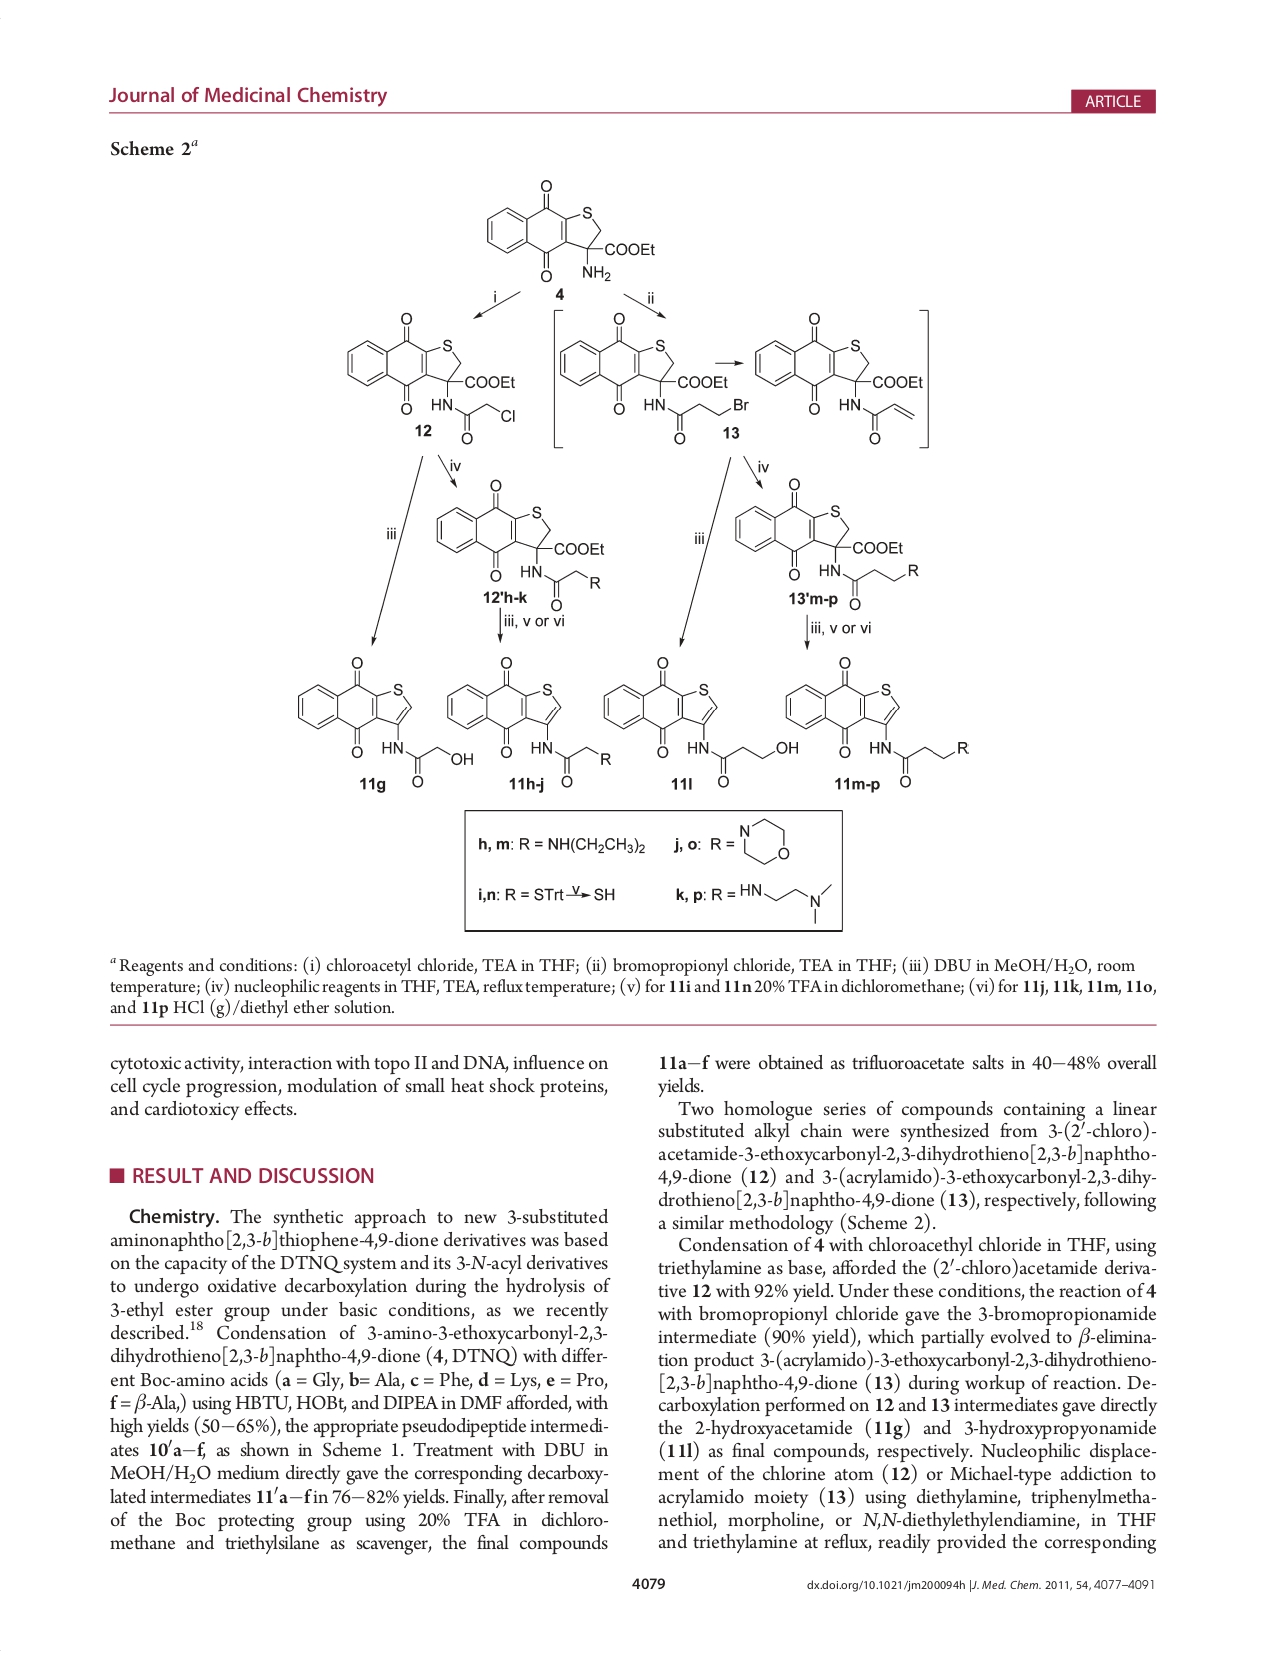exist_molecular: (601, 654, 801, 790), (731, 476, 922, 612), (557, 311, 749, 446), (782, 653, 969, 790), (293, 652, 476, 790), (343, 311, 523, 449), (432, 477, 609, 614), (443, 654, 614, 793), (753, 309, 924, 446), (481, 173, 657, 282), (738, 876, 834, 924), (737, 817, 790, 868)
